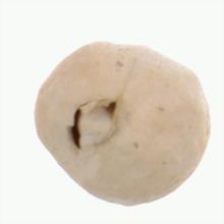L3: (69, 98, 125, 151)
L4: (34, 41, 213, 207)
